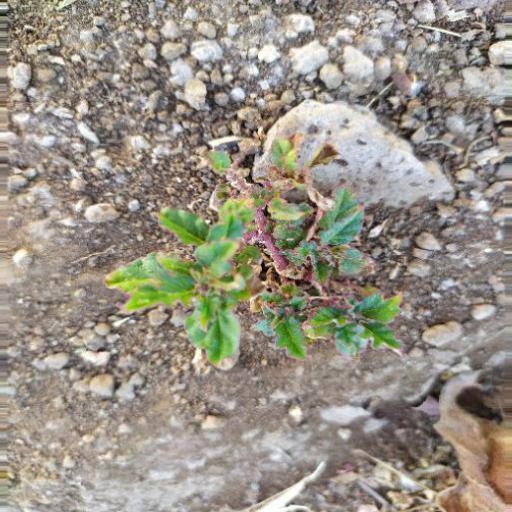weed: (119, 122, 422, 385)
